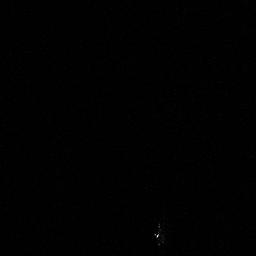ship: (153, 222, 167, 249)
